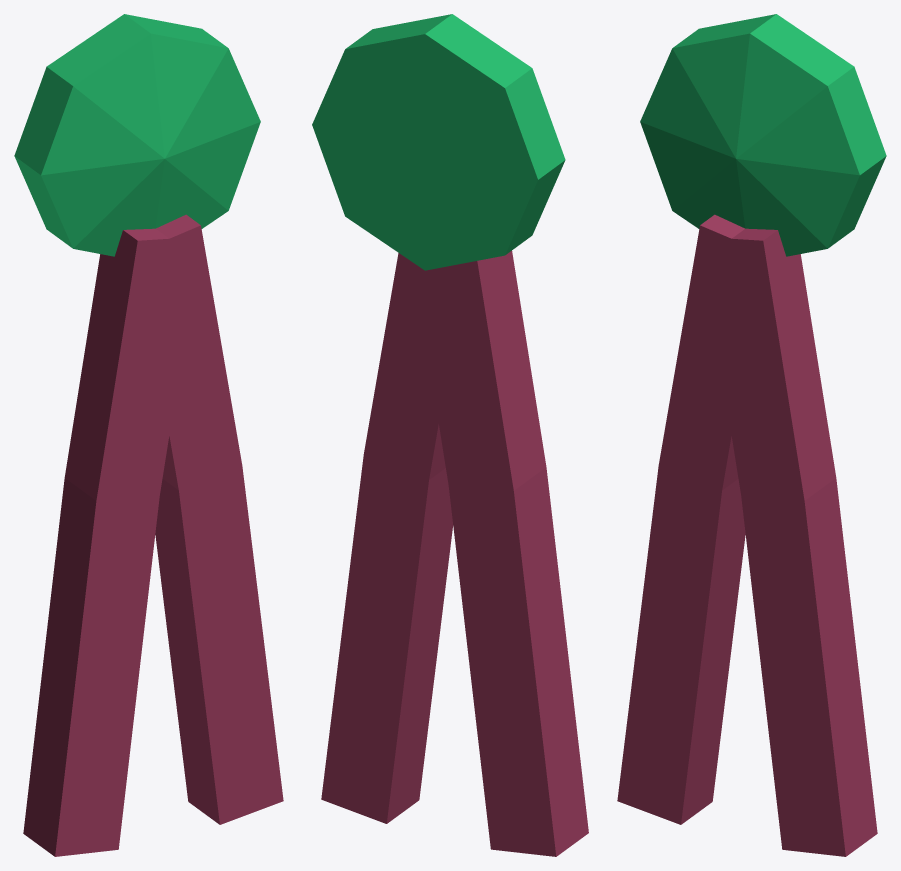
Rendered from twin_silk.obj.
3 views of the same model, side by side, from view 1: azimuth 30°, elevation 25°; view 2: azimuth 150°, elevation 25°; view 3: azimuth 330°, elevation 25° (orthographic). The views are drawn at different scales.
Parts seen in each view (by area): view 1: twin_knot, silk_-0.09, silk_0.09, silk_-0.09_edge, silk_0.09_edge; view 2: twin_knot, silk_0.09, silk_-0.09, silk_-0.09_edge, silk_0.09_edge; view 3: twin_knot, silk_-0.09, silk_0.09, silk_0.09_edge, silk_-0.09_edge.
Boxes of the visible parts, left/top/right/bottom form: twin_knot: left=14, top=14, right=260, bottom=256; silk_-0.09: left=55, top=236, right=200, bottom=856; silk_0.09: left=139, top=225, right=283, bottom=824; silk_-0.09_edge: left=23, top=228, right=168, bottom=856; silk_0.09_edge: left=155, top=214, right=219, bottom=824; twin_knot: left=312, top=14, right=565, bottom=270; silk_0.09: left=321, top=253, right=466, bottom=823; silk_-0.09: left=413, top=261, right=556, bottom=856; silk_-0.09_edge: left=477, top=251, right=588, bottom=856; silk_0.09_edge: left=386, top=424, right=453, bottom=823; twin_knot: left=640, top=14, right=886, bottom=256; silk_-0.09: left=617, top=225, right=762, bottom=824; silk_0.09: left=700, top=237, right=845, bottom=856; silk_0.09_edge: left=732, top=228, right=877, bottom=856; silk_-0.09_edge: left=681, top=214, right=745, bottom=824.
Size of the model in its own units: 0.2495 by 0.8243 by 0.0852.
